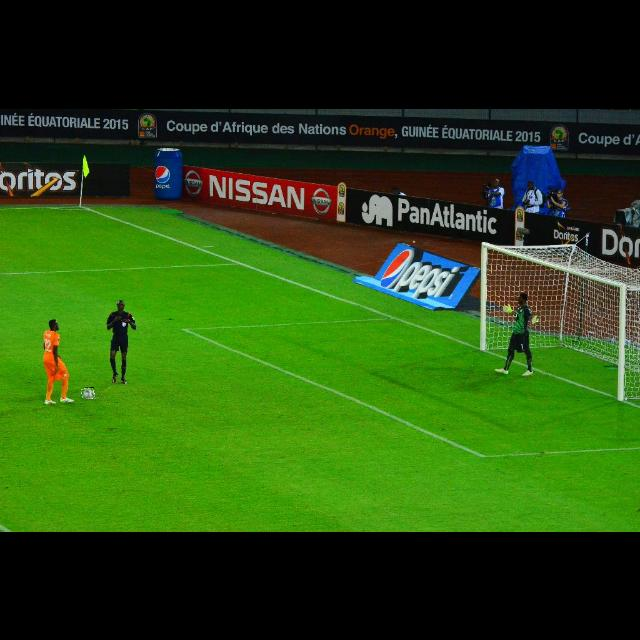Football: (82, 387, 94, 399)
